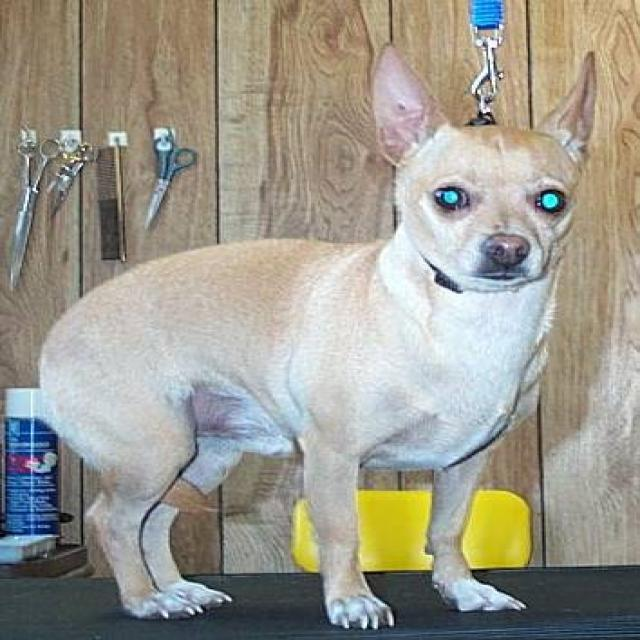adult_dog: (35, 42, 598, 630)
